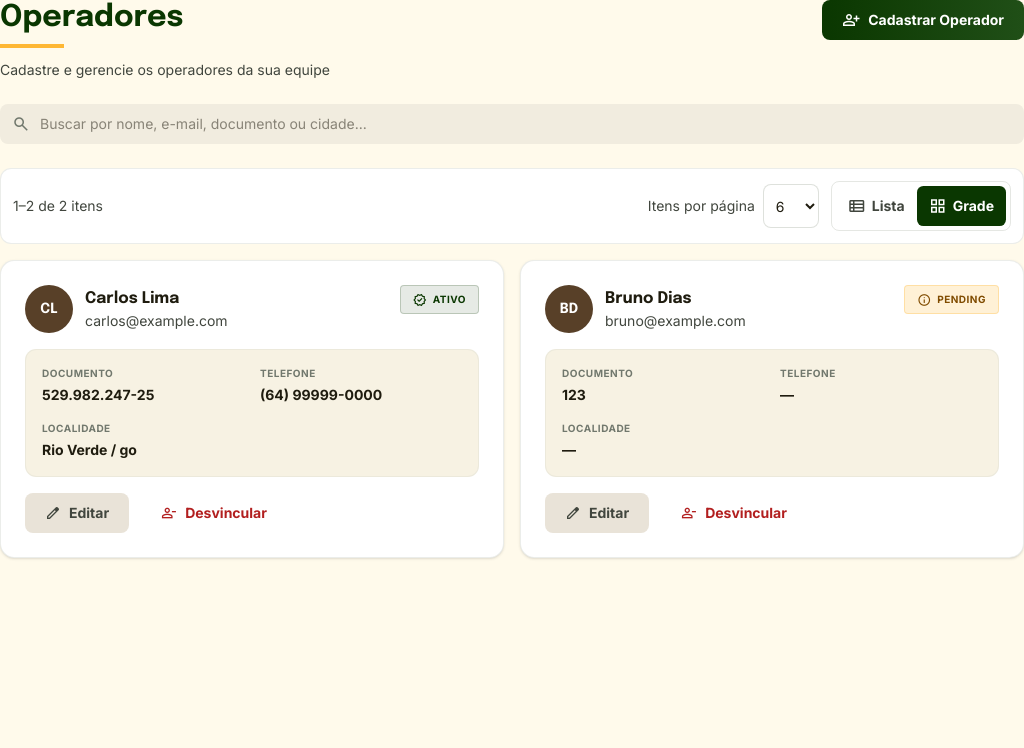
Test: edits an operator keeping unchanged data as stored and without asking for a password
The width and height of the screenshot is (1024, 748).
Click the button "Editar" below "123": (597,513) [545,493,649,533]
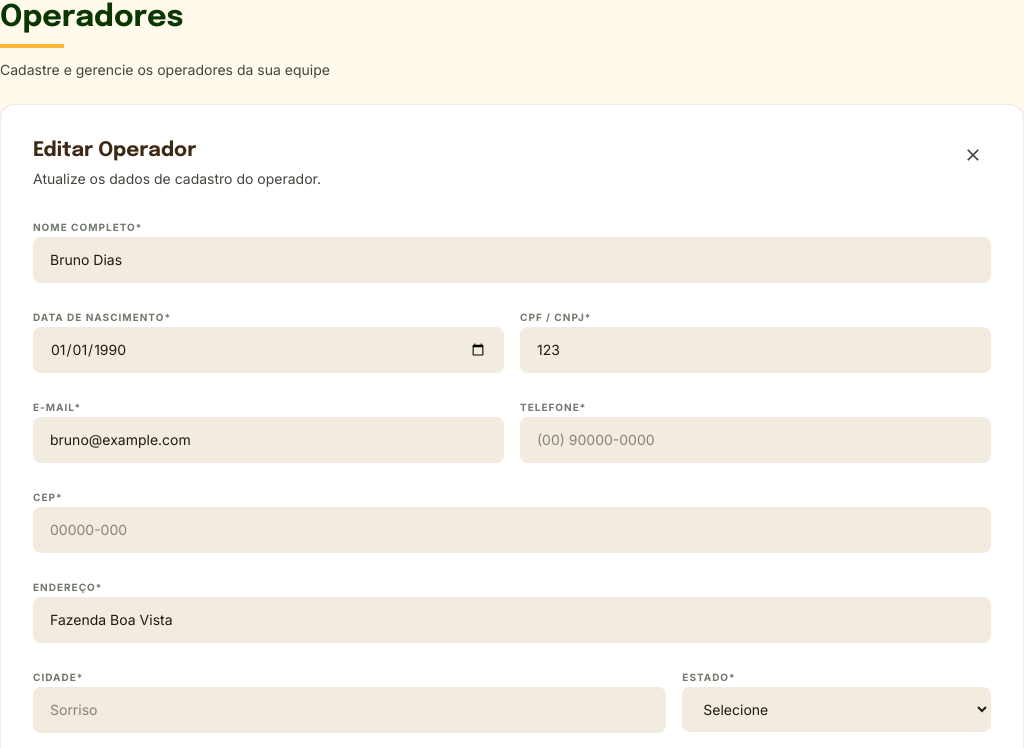
Expected: the heading "Editar Operador" is shown, [33,140,196,161]
Expected: the field labelled "CPF / CNPJ*" holds "123", [520,327,991,373]
Replace the text in the field labelled "Nome Completo*" with "Bruno Dias Filho": (512,260) [33,237,991,283]
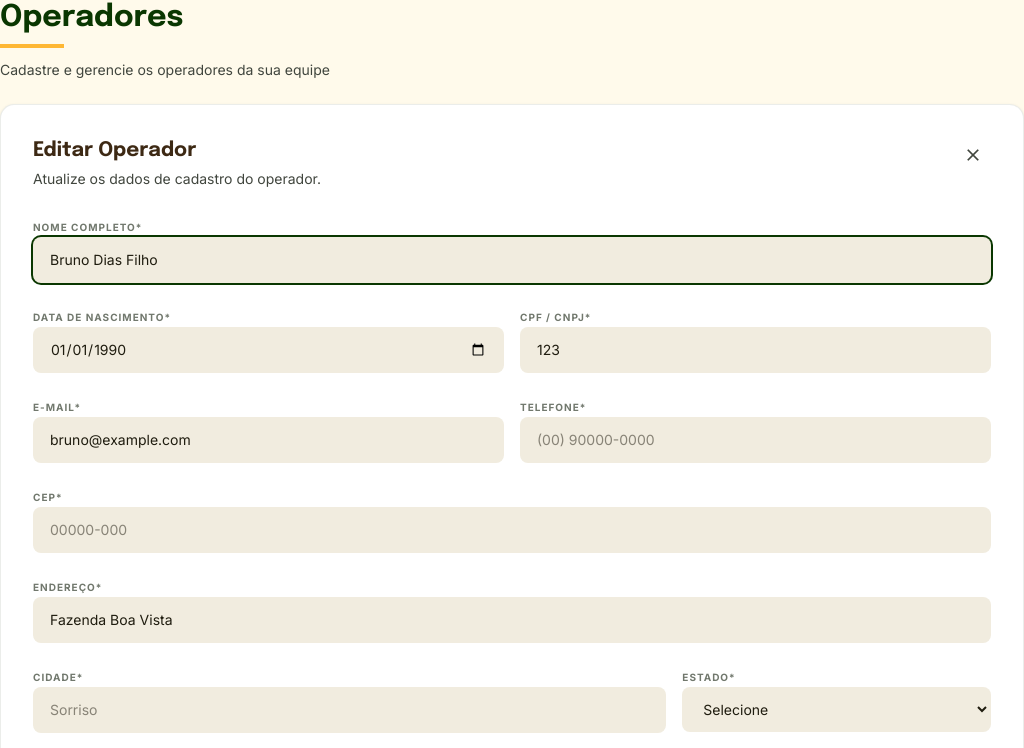
In the field labelled "Telefone*": (756,440) [520,417,991,463], type "64977776666"
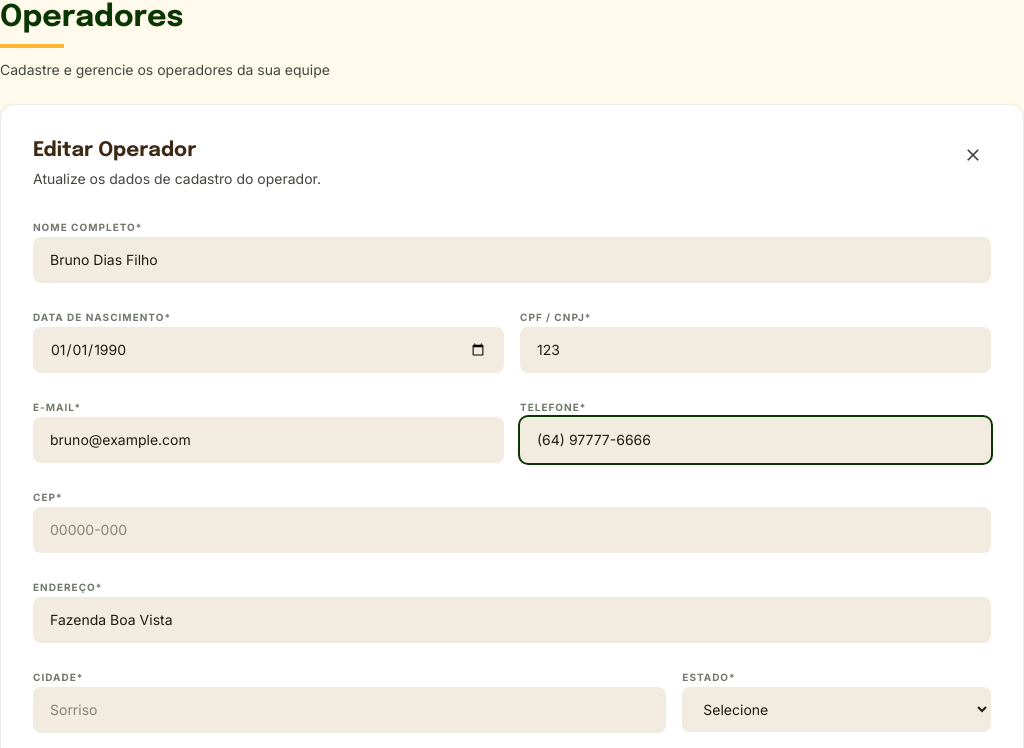
In the field labelled "CEP*": (512,530) [33,507,991,553], type "75900000"
(page scrolled)
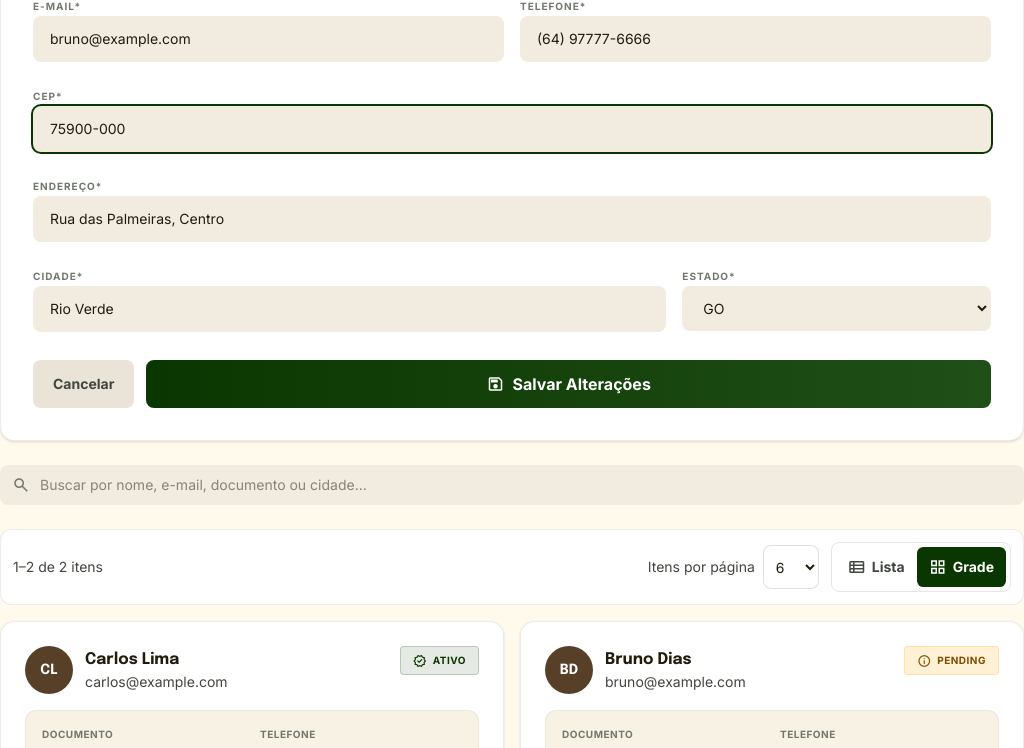
Expected: the field labelled "Cidade*" holds "Rio Verde", [33,286,666,332]
Click the button "Salvar Alterações": (569,384) [146,360,991,408]
(page scrolled)
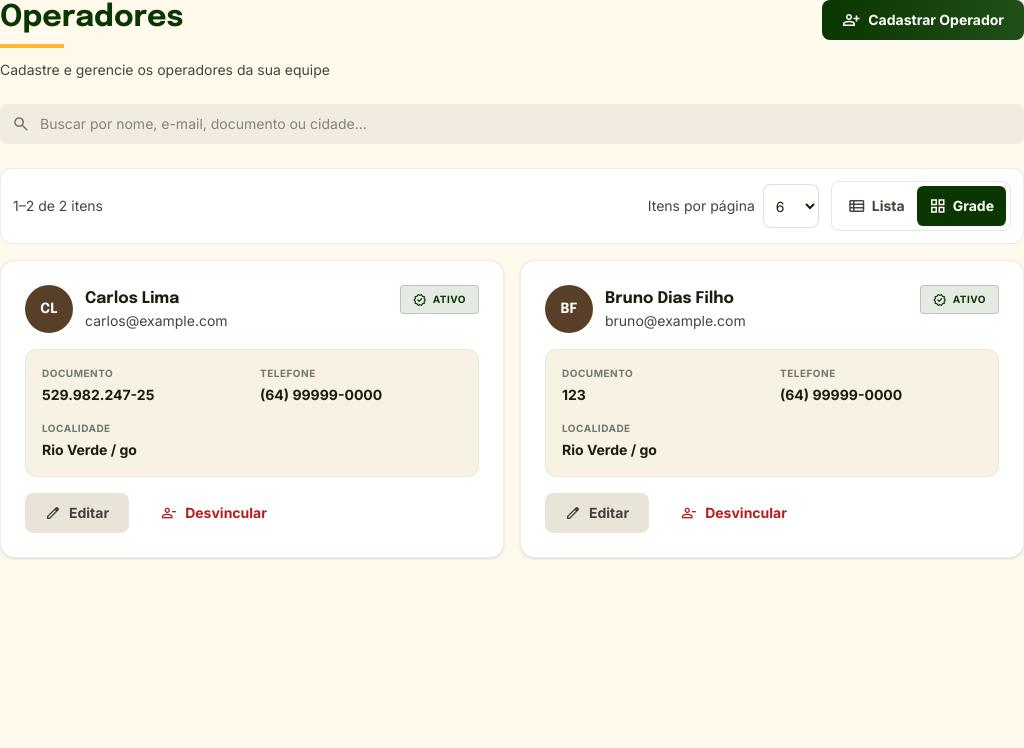
Expected: the heading "Bruno Dias Filho" is shown, [605,287,746,311]
